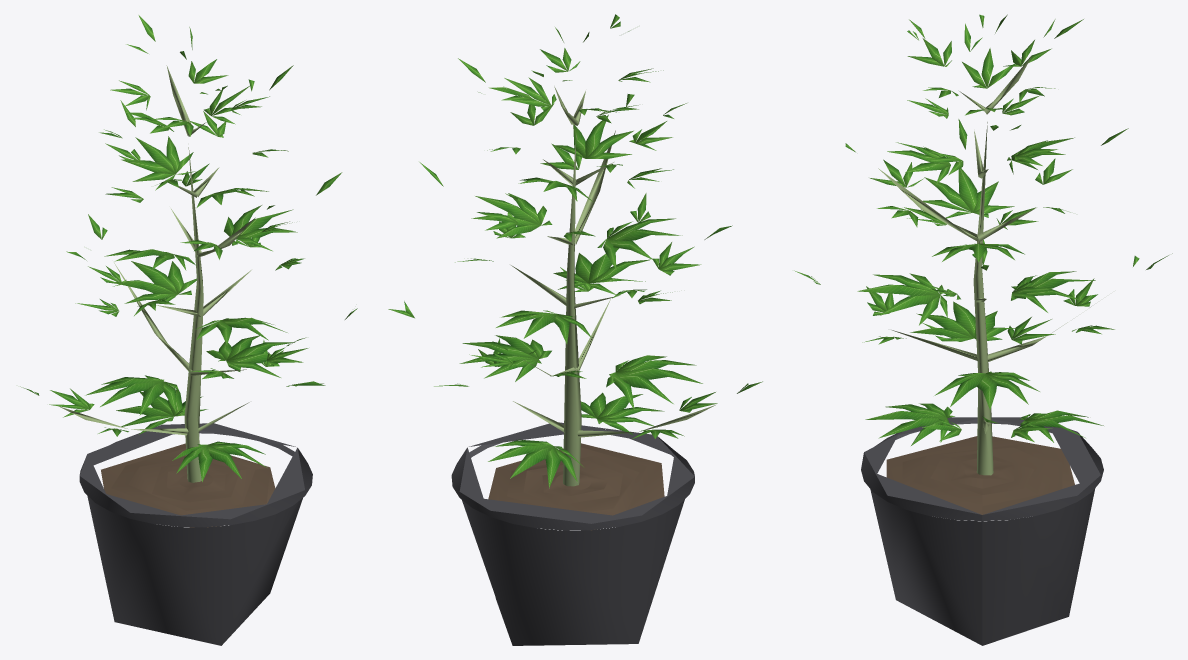
Rendered from zatla-plant-low.glb.
The picture shows the model from 3 angles, left to right: view 1: azimuth 30°, elevation 25°; view 2: azimuth 150°, elevation 25°; view 3: azimuth 270°, elevation 25°; orthographic projection. The views are drawn at different scales.
Visible parts, largest first — view 1: Zatla_Plant; view 2: Zatla_Plant; view 3: Zatla_Plant.
Boxes of the visible parts, x1,y1,x2,y2 form: Zatla_Plant: (20,15,357,645); Zatla_Plant: (388,14,762,645); Zatla_Plant: (794,14,1172,645).
Bounding box in the file's own units: 0.6195 × 0.9653 × 0.5582.
4 materials, 1 textured.
